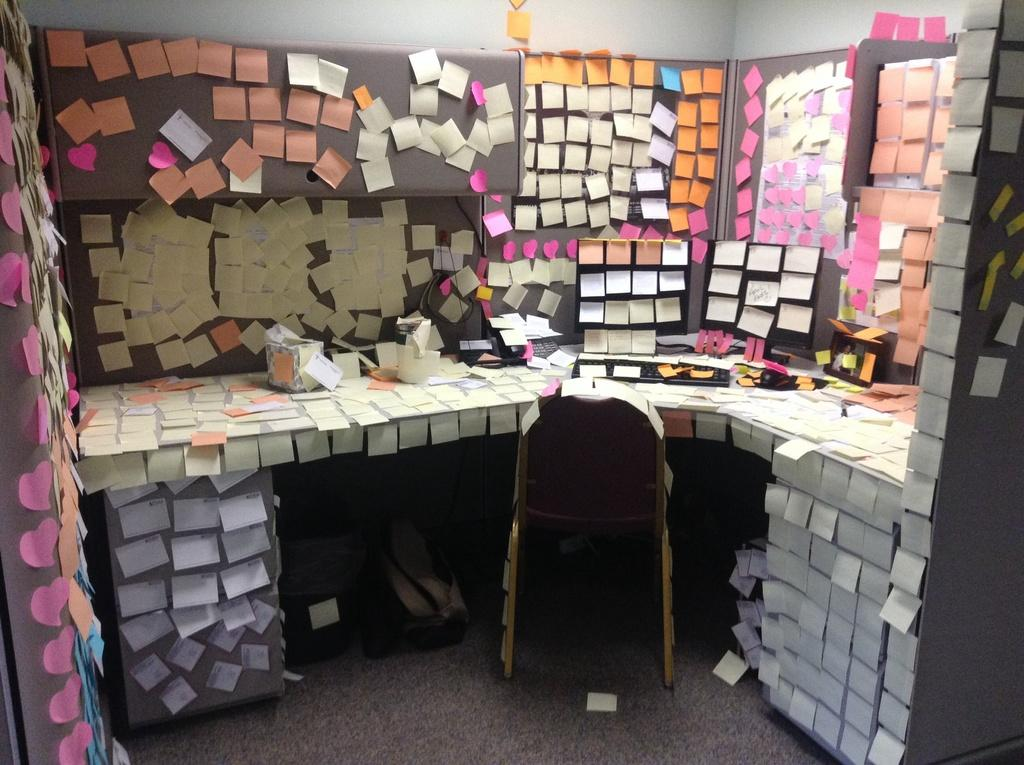Chair: (503, 376, 672, 688)
